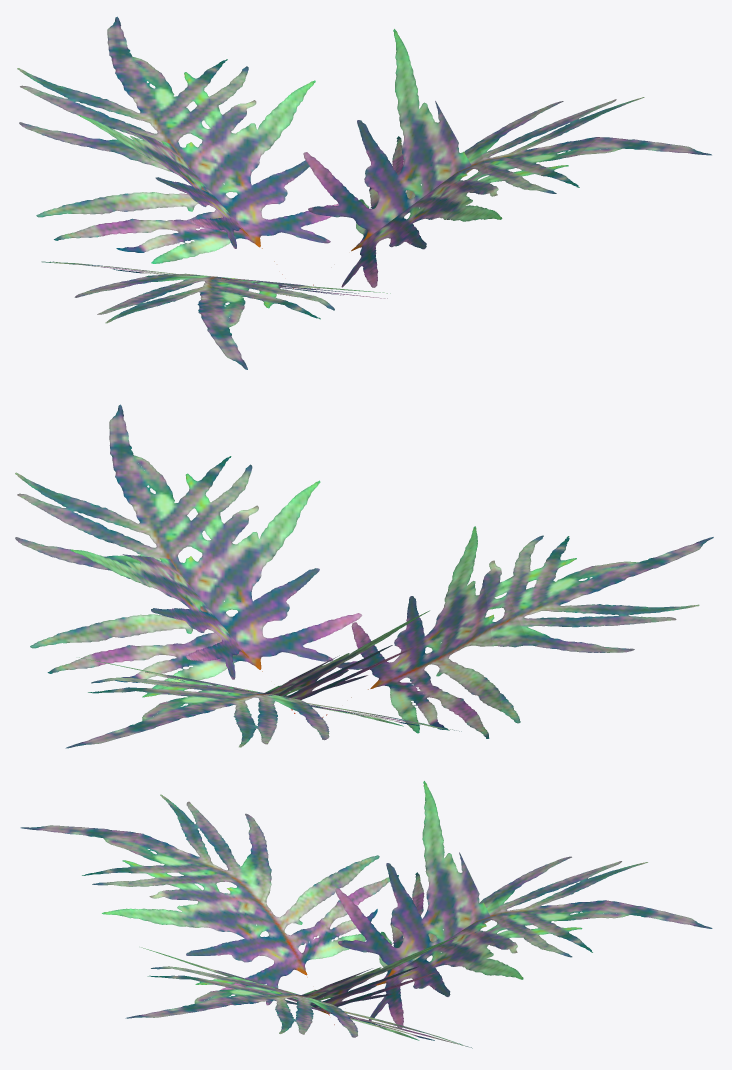
The model's file is Painter Wort D.fbx.
3 renders of one model, top to bottom at view 1: azimuth 30°, elevation 25°; view 2: azimuth 150°, elevation 25°; view 3: azimuth 270°, elevation 25°, orthographic. The views are drawn at different scales.
Parts seen in each view (by area): view 1: Painter Wort D; view 2: Painter Wort D; view 3: Painter Wort D.
Boxes of the visible parts, box(x1,y1,x2,y2) form: Painter Wort D: box(17, 16, 711, 369); Painter Wort D: box(15, 404, 713, 748); Painter Wort D: box(20, 781, 712, 1048).
Bounding box in the file's own units: 112 × 32.98 × 124.
